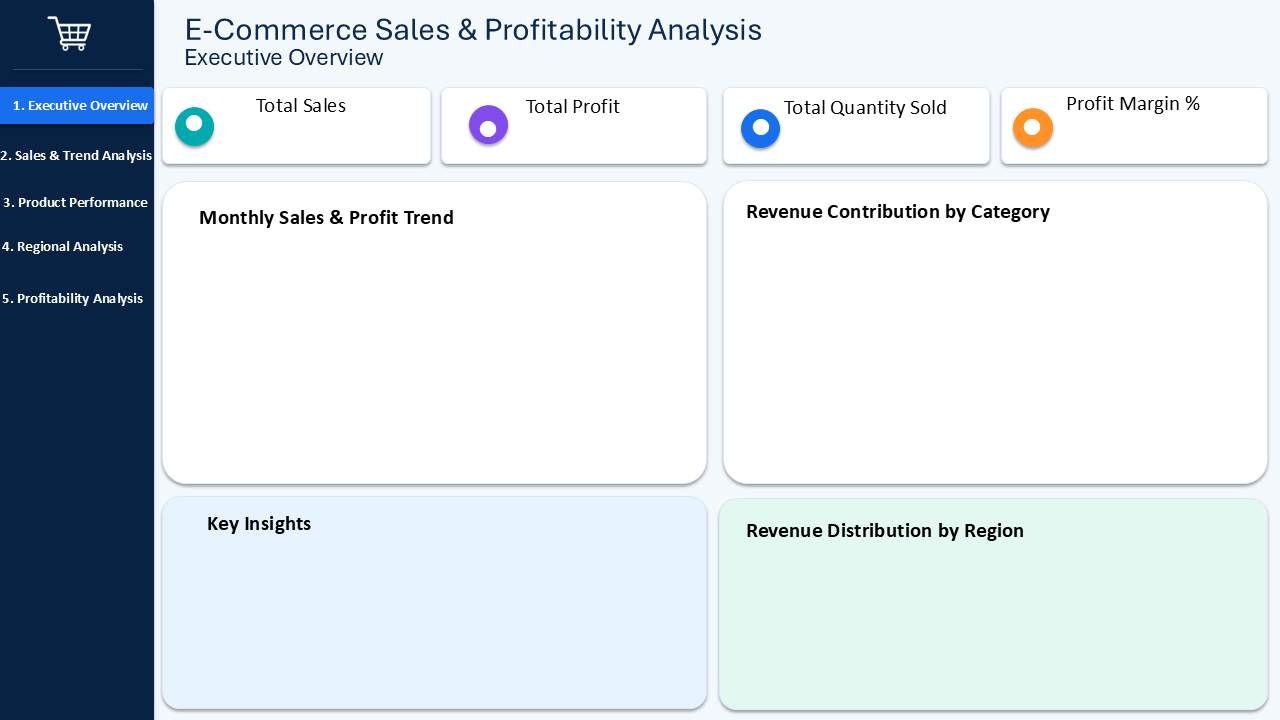

The dashboard page shown, as its layout file describes it:
{"tool":"powerbi","page":{"name":"Executive Overview","canvas":[1280,720],"ordinal":0},"visuals":[{"type":"cardVisual","fields":{"Data":["ecommerce_sales_db salesdata.Total Sales"]},"box":[158.4,67.5,268.6,100.6],"z":0},{"type":"cardVisual","fields":{"Data":["ecommerce_sales_db salesdata.Total Profit"]},"box":[436.7,79.9,270,88.2],"z":1000},{"type":"cardVisual","fields":{"Data":["ecommerce_sales_db salesdata.Total Quantity"]},"box":[721.9,67.5,265.9,100.6],"z":2000},{"type":"areaChart","title":"Monthly Sales & Profit Trend","fields":{"Category":["Date Table.Date.Variation.Date Hierarchy.Year","Date Table.Date.Variation.Date Hierarchy.Quarter","Date Table.Date.Variation.Date Hierarchy.Month"],"Y":["Sum(ecommerce_sales_db salesdata.Sales)","Sum(ecommerce_sales_db salesdata.Profit)"]},"box":[176.3,210.8,519.3,271.4],"z":3000},{"type":"cardVisual","fields":{"Data":["ecommerce_sales_db salesdata.Profit Margin %"]},"box":[998.7,79.9,264.5,88.2],"z":4000},{"type":"clusteredBarChart","title":"Revenue Contribution by Category","fields":{"Category":["ecommerce_sales_db salesdata.Category"],"Y":["ecommerce_sales_db salesdata.Total Sales"]},"box":[727.4,184.6,541.4,297.6],"z":5000},{"type":"donutChart","title":"Revenue Distribution by Region","fields":{"Category":["ecommerce_sales_db salesdata.Region"],"Y":["ecommerce_sales_db salesdata.Total Sales"]},"box":[721.9,494.6,541.4,206.6],"z":6000},{"type":"textbox","title":"key Insights","box":[165.3,494.6,548.3,206.6],"z":7000},{"type":"textbox","box":[0,272.8,147.4,48.2],"z":8000},{"type":"textbox","box":[0,224.5,147.4,48.2],"z":9000},{"type":"textbox","box":[0,88.2,158.4,48.2],"z":10000},{"type":"textbox","box":[0,136.4,158.4,48.2],"z":11000},{"type":"textbox","box":[0,176.3,158.4,48.2],"z":12000},{"type":"textbox","box":[170.8,0,512.5,41.3],"z":13000},{"type":"textbox","box":[171.1,37.9,239.2,42.4],"z":14000}]}

Visuals, with their boxes on the page's 1280x720 design canvas (x1, y1, x2, y2). These are canvas units, not pixel positions in the 1280x720 screenshot, which may show the page scaled, cropped or inside an application window:
cardVisual - ecommerce_sales_db salesdata.Total Sales: 158:68:427:168
cardVisual - ecommerce_sales_db salesdata.Total Profit: 437:80:707:168
cardVisual - ecommerce_sales_db salesdata.Total Quantity: 722:68:988:168
"Monthly Sales & Profit Trend" areaChart: 176:211:696:482
cardVisual - ecommerce_sales_db salesdata.Profit Margin %: 999:80:1263:168
"Revenue Contribution by Category" clusteredBarChart: 727:185:1269:482
"Revenue Distribution by Region" donutChart: 722:495:1263:701
"key Insights" textbox: 165:495:714:701
textbox: 0:273:147:321
textbox: 0:224:147:273
textbox: 0:88:158:136
textbox: 0:136:158:185
textbox: 0:176:158:224
textbox: 171:0:683:41
textbox: 171:38:410:80
